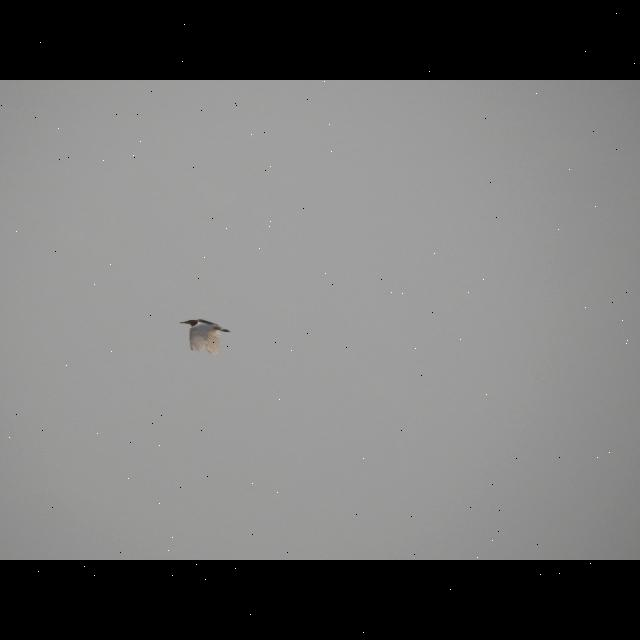heron: (179, 312, 235, 354)
